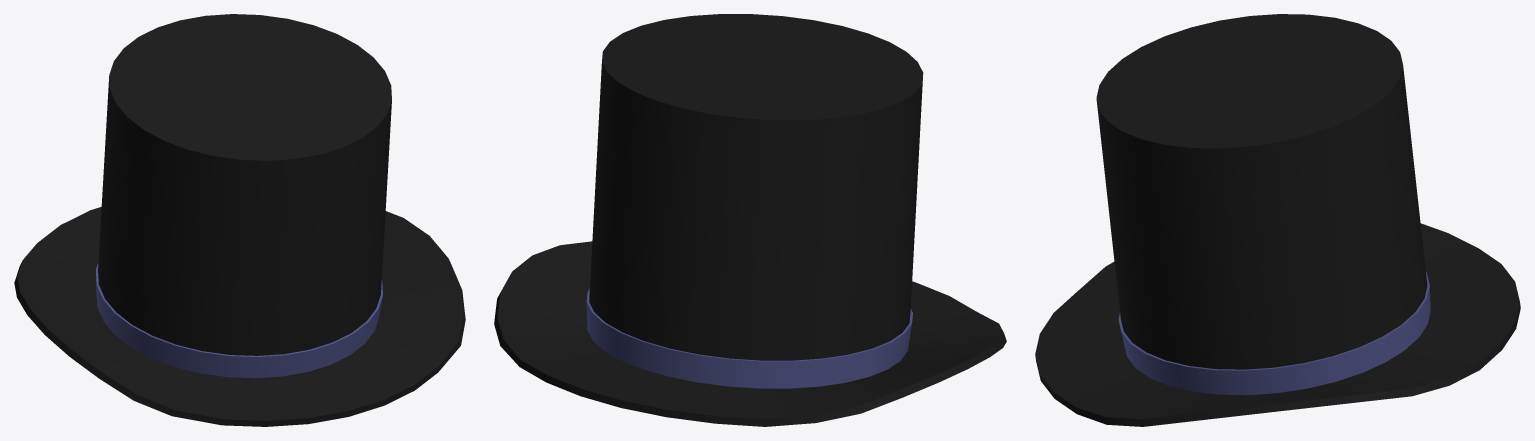
The model's file is tophat_basic_with_purple.glb.
3 renders of one model, left to right at view 1: azimuth 30°, elevation 25°; view 2: azimuth 150°, elevation 25°; view 3: azimuth 270°, elevation 25°, orthographic. The views are drawn at different scales.
Visible parts, largest first — view 1: 0.131, 1.076; view 2: 0.131, 1.076; view 3: 0.131, 1.076.
Part boxes in pixels (box(x1,y1,x2,y2)): 0.131: box(14, 14, 465, 426); 1.076: box(95, 263, 382, 378); 0.131: box(494, 14, 1006, 426); 1.076: box(586, 288, 912, 388); 0.131: box(1035, 14, 1520, 426); 1.076: box(1118, 272, 1430, 395).
Size of the model in its own units: 0.6292 by 0.4242 by 0.6289.
